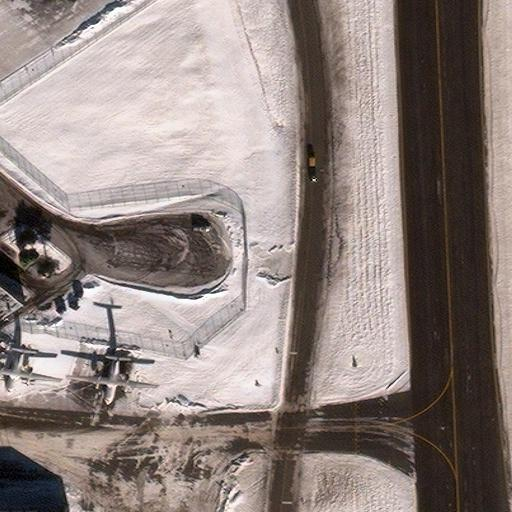Medium Civil Transport: (66, 355, 156, 405), (0, 348, 59, 391)
